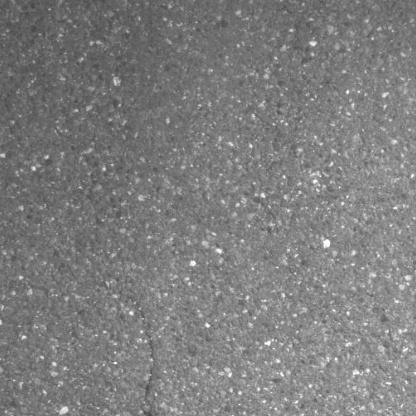Cracks: (129, 302, 167, 416)
